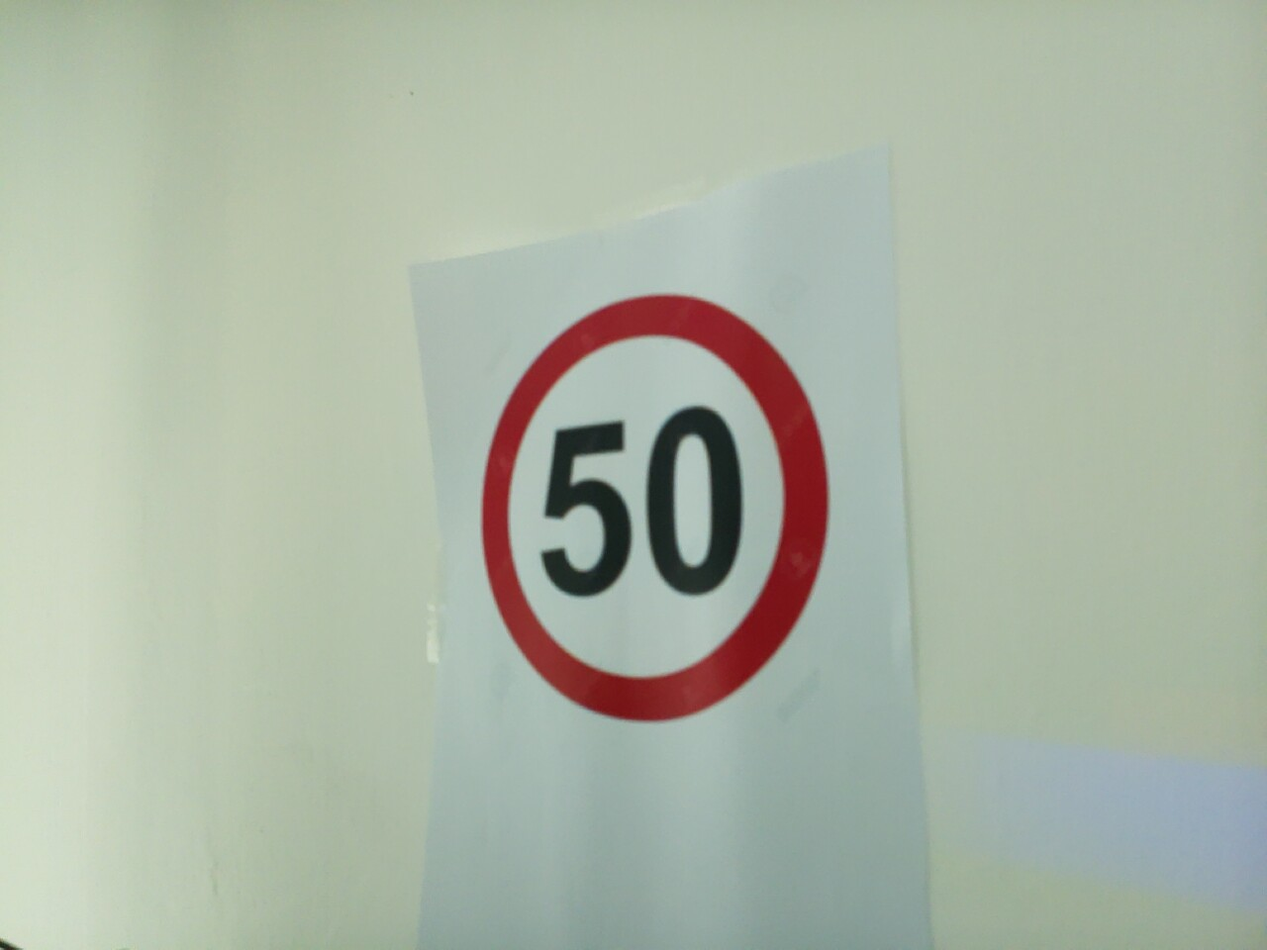speed_50: (471, 283, 839, 733)
